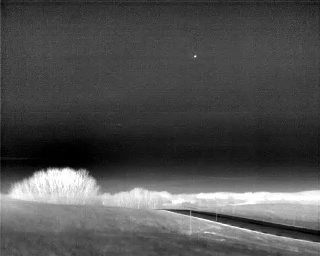BIRD: (191, 52, 199, 61)
